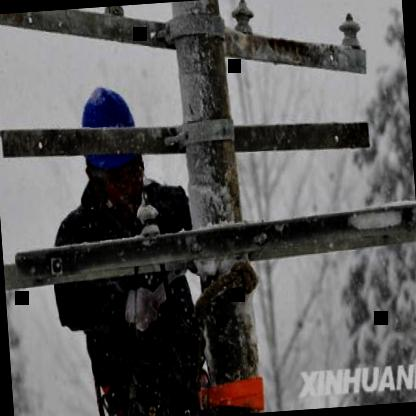helmet: (63, 72, 156, 222)
